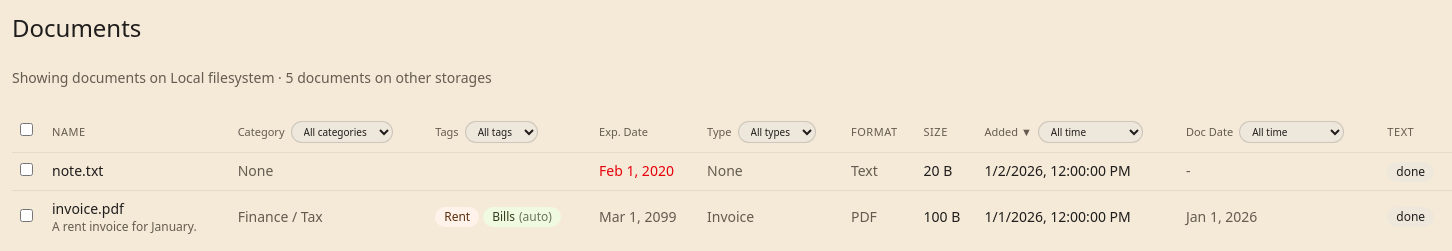
DocumentsPage › filters to uncategorized documents when None is selected in the category dropdown
The image size is (1452, 251).
Expected: the link "invoice.pdf" is shown, [52,198,124,218]
Expected: the link "note.txt" is shown, [52,161,103,180]
Select "None" in the dropdown named "Filter by category" at (342, 132), box [290,121,392,143]
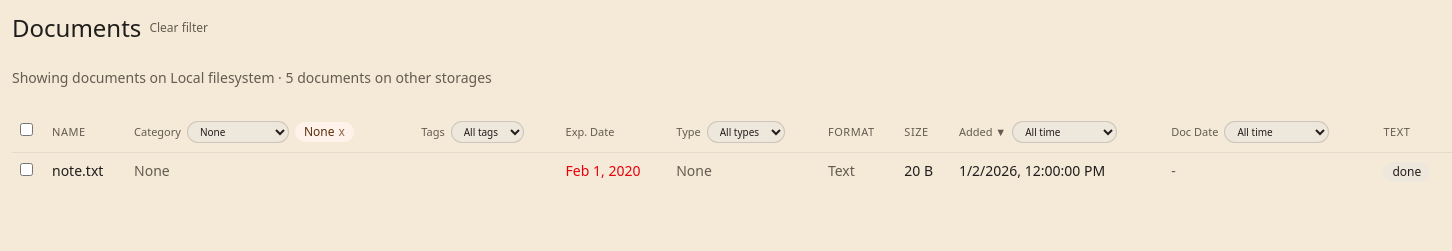
Expected: the link "note.txt" is shown, [52,161,103,180]
Now the link "invoice.pdf" is gone
